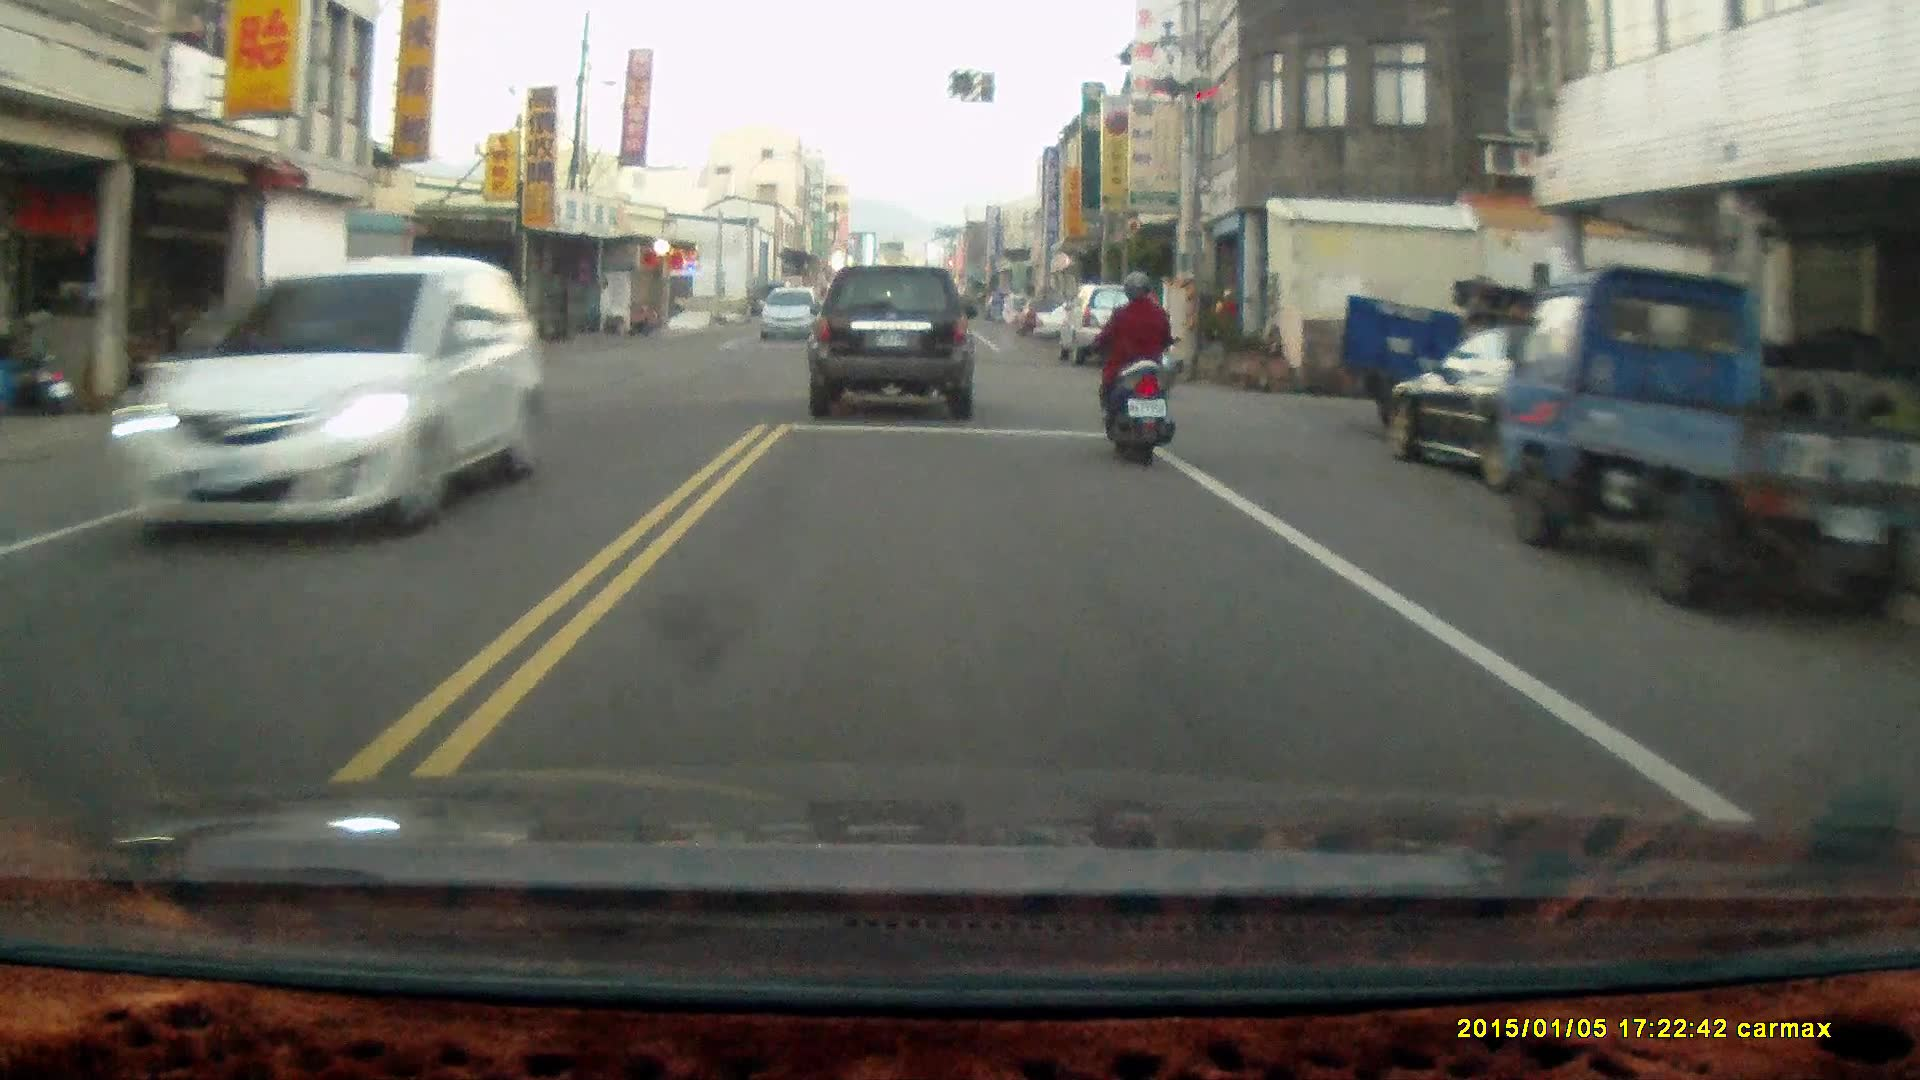rider: (1093, 268, 1174, 466)
vehicle: (1481, 255, 1920, 616), (130, 254, 540, 533), (1376, 322, 1727, 495), (1336, 279, 1600, 447), (806, 262, 981, 426), (1059, 284, 1160, 369), (760, 288, 823, 343)
